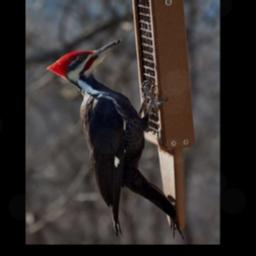Woodpecker: (44, 37, 184, 239)
